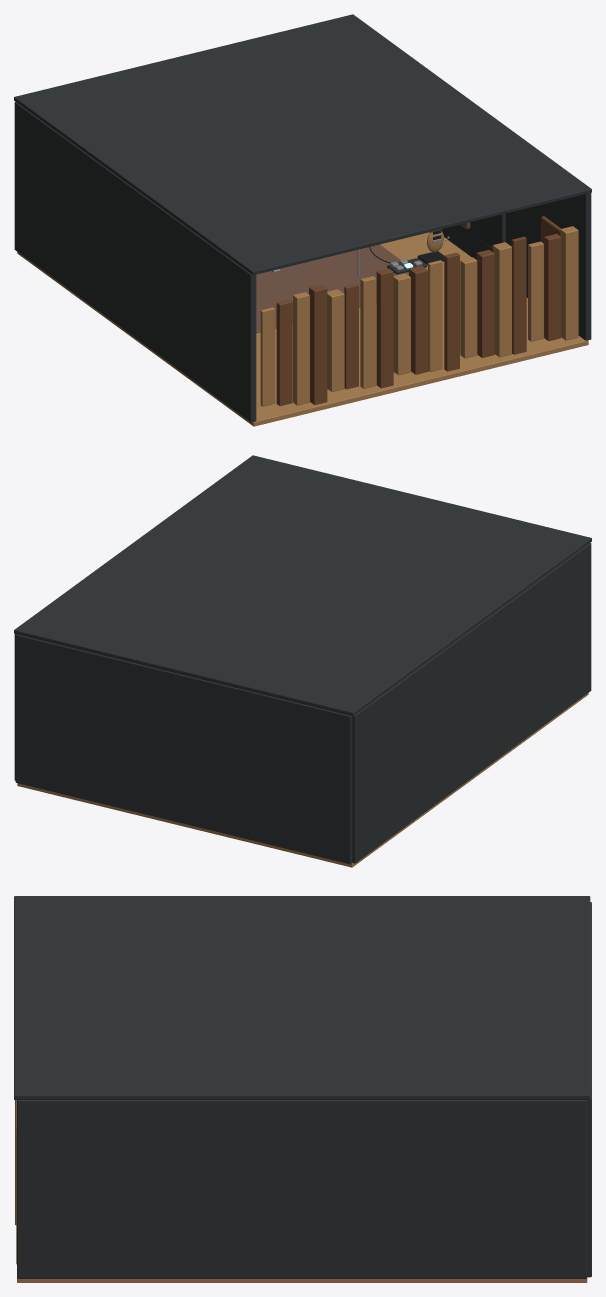
The model's file is practice_room_001.glb.
3 views of the same model, one above another, from view 1: azimuth 30°, elevation 25°; view 2: azimuth 150°, elevation 25°; view 3: azimuth 270°, elevation 25° (orthographic). The views are drawn at different scales.
Visible parts, largest first — view 1: ceiling, left_acoustic_treatment, wood_floor, right_acoustic_treatment, practice_rug, rear_diffuser_04, rear_diffuser_08, rear_diffuser_15, rear_diffuser_19, rear_diffuser_10, rear_diffuser_14, rear_diffuser_03 (+13 smaller); view 2: ceiling, front_acoustic_wall, left_acoustic_treatment, wood_floor; view 3: ceiling, right_acoustic_treatment, wood_floor, front_acoustic_wall.
Part boxes in pixels (x1,y1,x2,y2): ceiling: (14,14,591,275); left_acoustic_treatment: (14,101,256,422); wood_floor: (17,232,588,426); right_acoustic_treatment: (441,193,591,340); practice_rug: (256,244,408,332); rear_diffuser_04: (309,284,327,404); rear_diffuser_08: (376,268,393,388); rear_diffuser_15: (492,242,511,357); rear_diffuser_19: (560,226,578,340); rear_diffuser_10: (409,265,428,374); rear_diffuser_14: (476,250,494,357); rear_diffuser_03: (293,292,309,405); ceiling: (14,455,591,716); front_acoustic_wall: (15,634,352,863); left_acoustic_treatment: (352,542,591,863); wood_floor: (17,693,588,867); ceiling: (14,896,590,1099); right_acoustic_treatment: (17,1100,587,1278); wood_floor: (17,1278,587,1282); front_acoustic_wall: (587,902,591,1277).
Size of the model in its own units: 9.16 by 4.02 by 11.15.
